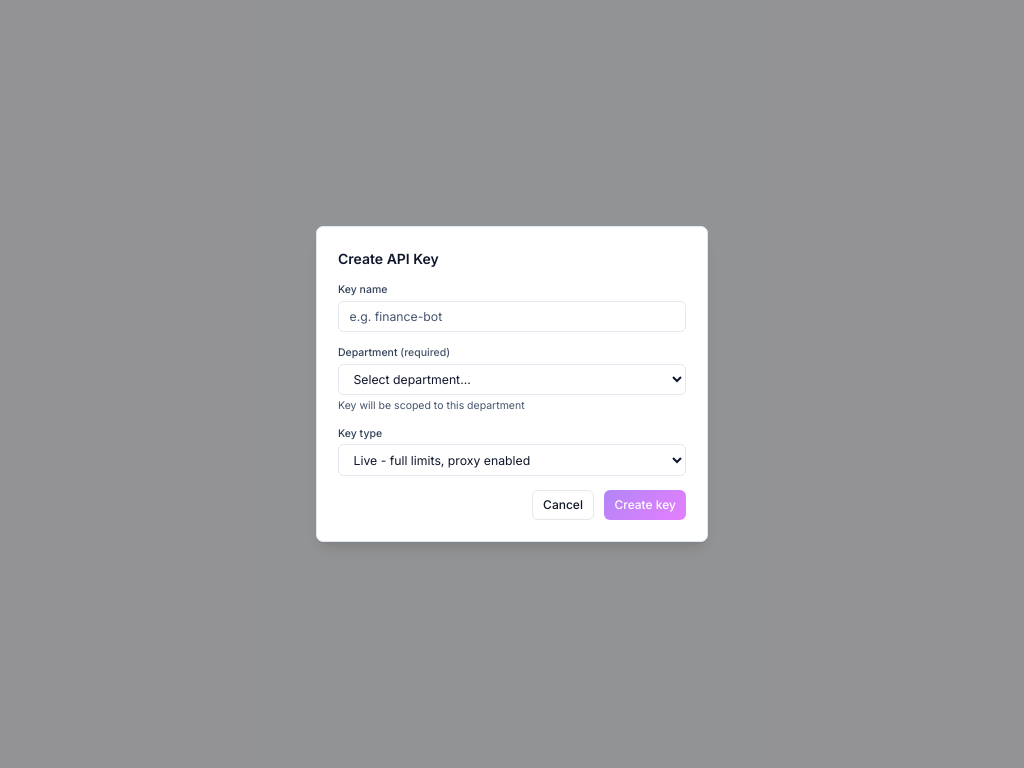
Scenario: CreateKeyModal create flow › shows the server error and does NOT reveal a key on failure
Type "My key" into the field with placeholder "e.g. finance-bot" at (512, 317), box x1=338 y1=301 x2=686 y2=332
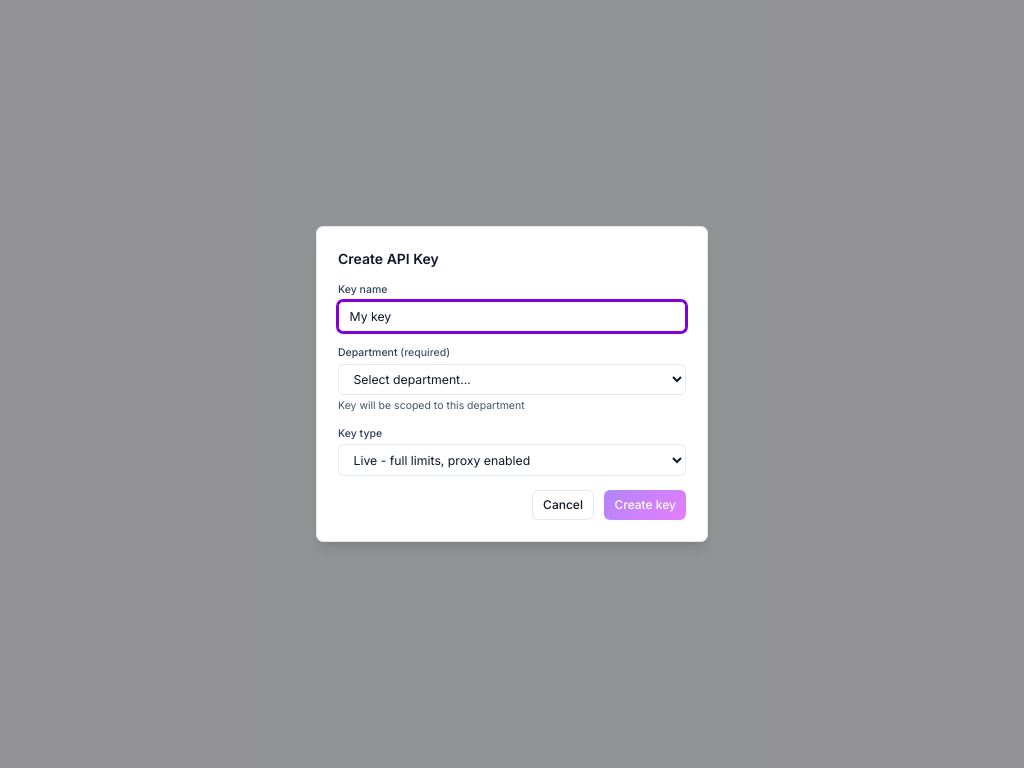
Select "Engineering" in the dropdown below "(required)" at (512, 380), box x1=338 y1=364 x2=686 y2=395
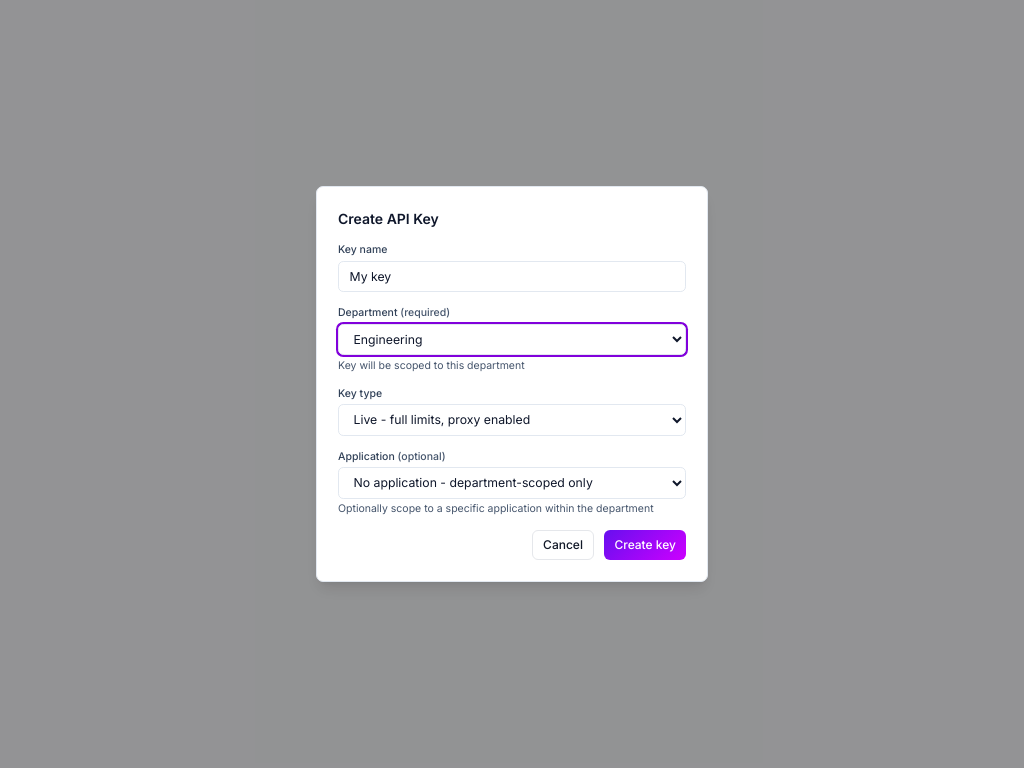
Click the button "Create key" at (645, 545), box x1=604 y1=530 x2=686 y2=560
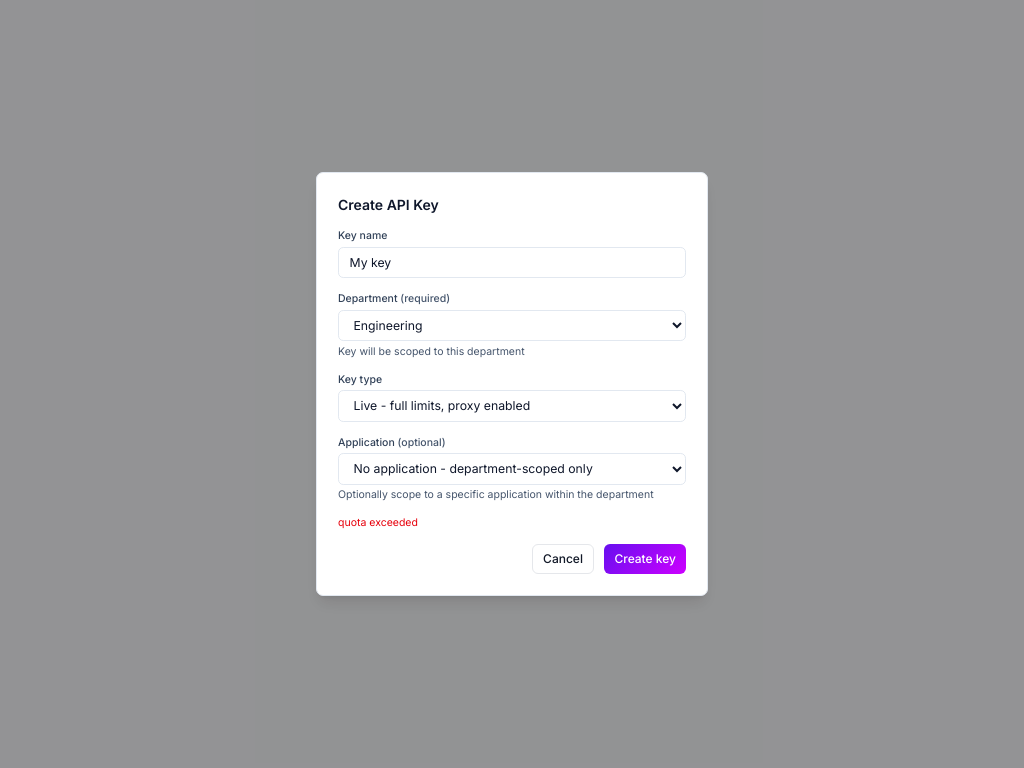
Result: the text "quota exceeded" is shown at x1=338 y1=516 x2=418 y2=529
